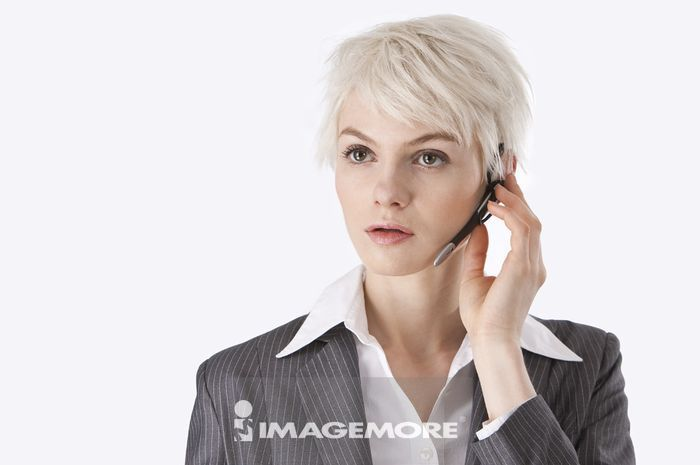talk: (334, 119, 548, 357)
